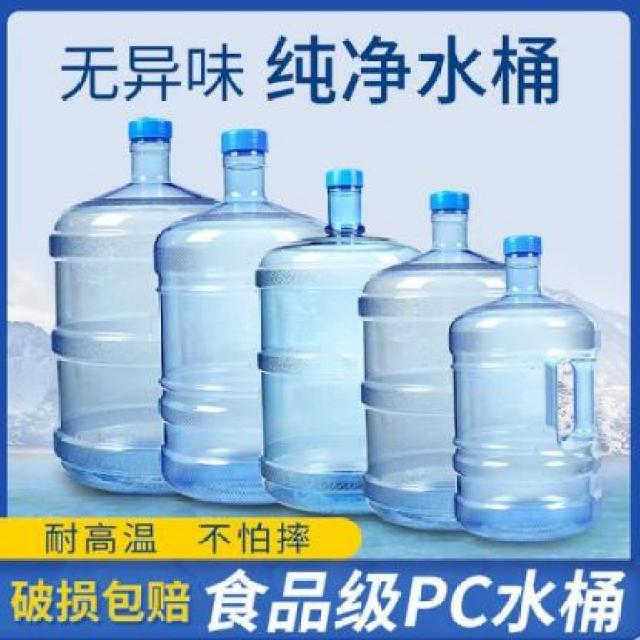coolerbottle: (445, 230, 606, 548)
